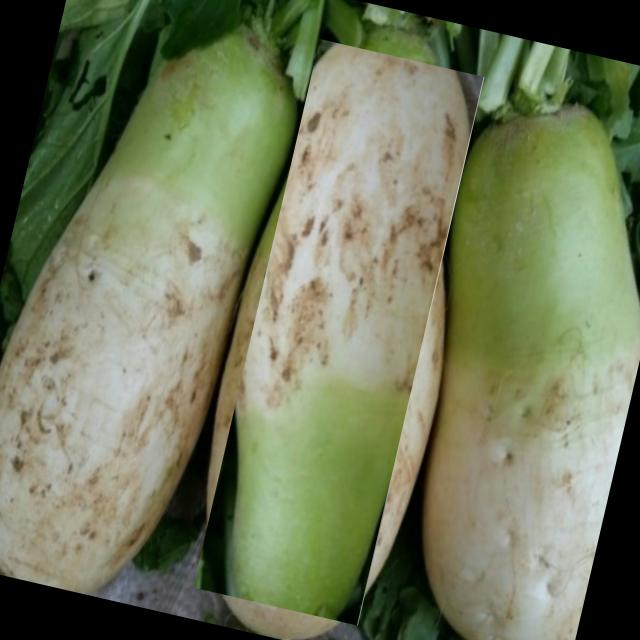radish: (193, 38, 484, 625)
